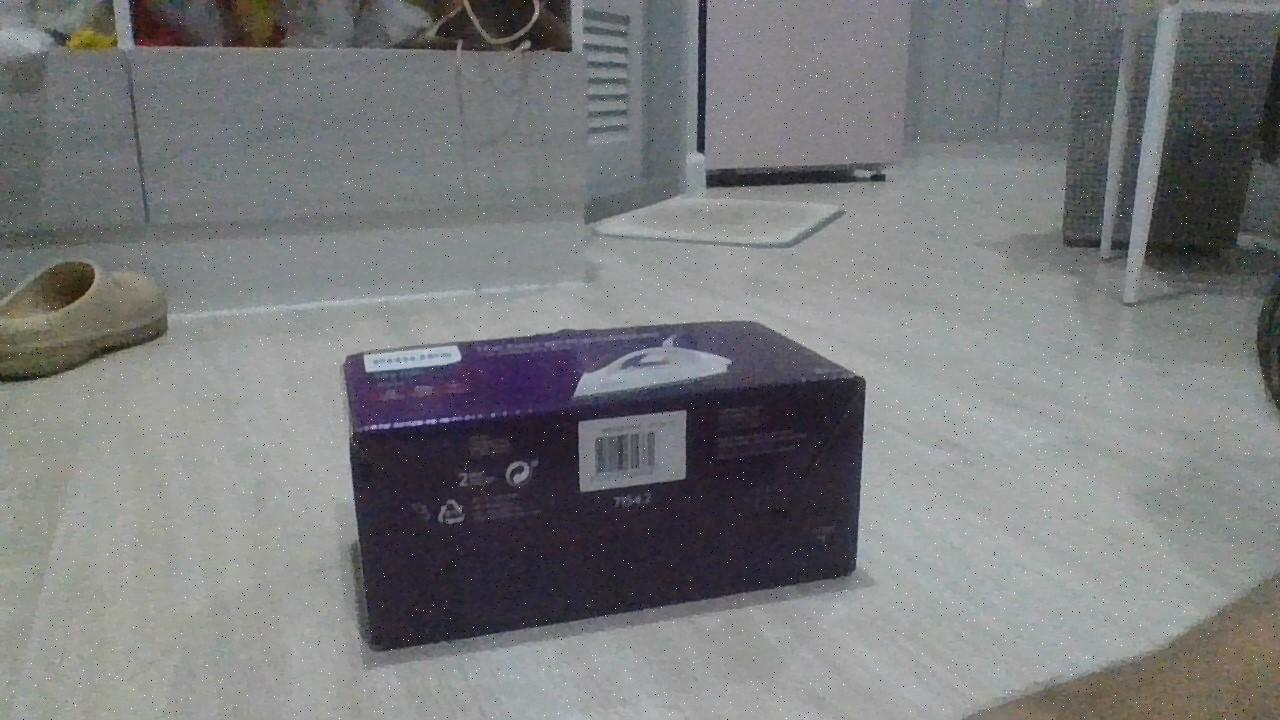IRON: (337, 315, 870, 655)
